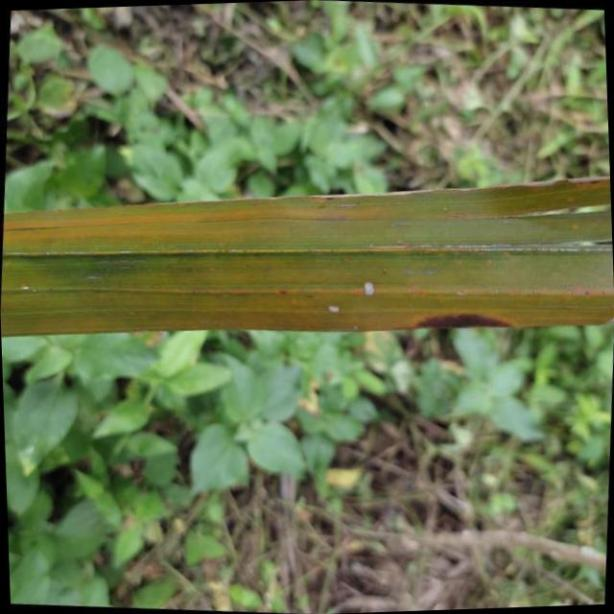Megnesium: (0, 174, 614, 341)
